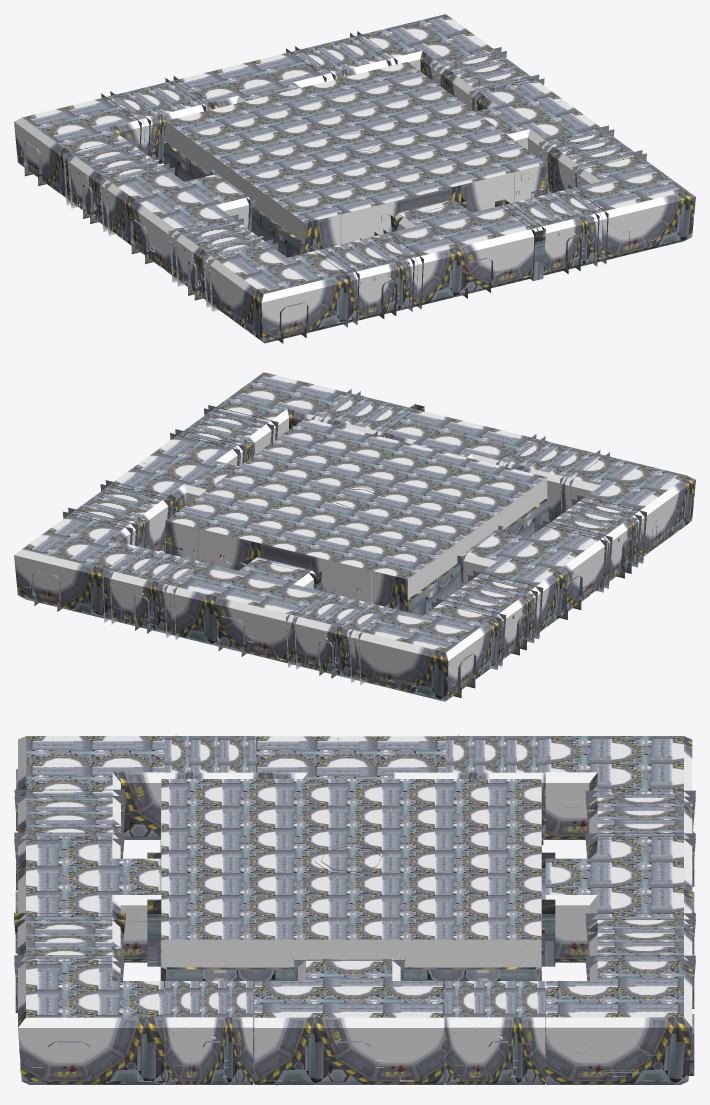
The model's file is Combined_Mesh_root_scene__16_1995fef1__ZombiesII_laboratory_07_d_a6872bb1_c1f257.obj.
3 renders of one model, top to bottom at view 1: azimuth 30°, elevation 25°; view 2: azimuth 150°, elevation 25°; view 3: azimuth 270°, elevation 25°, orthographic. The views are drawn at different scales.
Bounding box in the file's own units: 72.61 × 10.34 × 71.75.
Materials: 726 (726 with a texture image).
